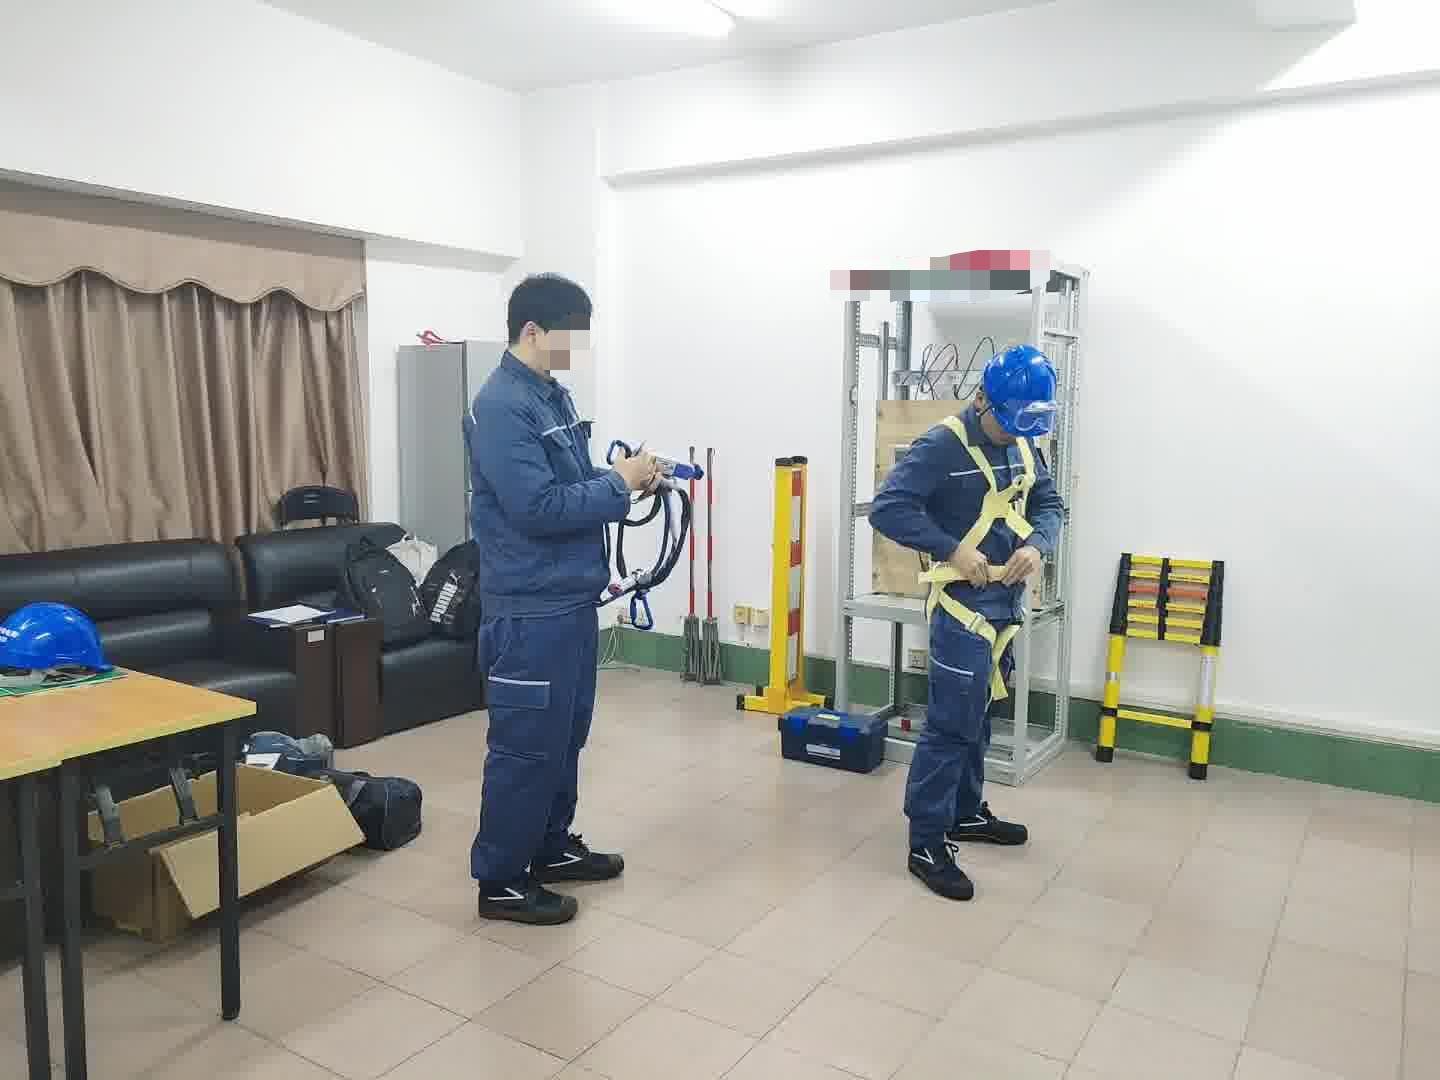halt: (983, 346, 1060, 440)
noear: (518, 317, 553, 357)
unhalt: (506, 273, 598, 376)
